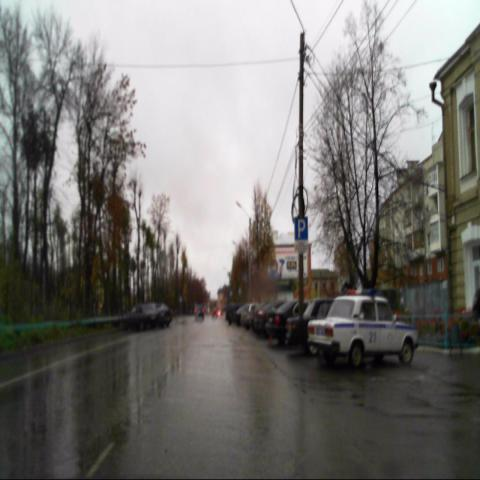6_4: (294, 217, 308, 240)
